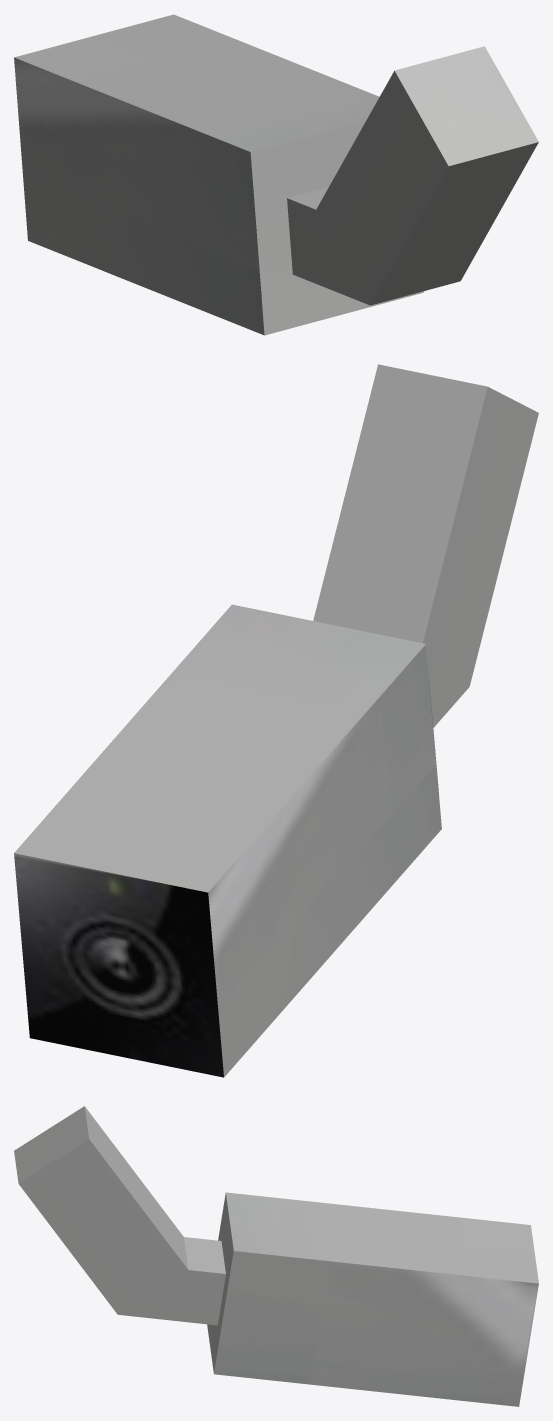
Rendered from SecurityCamera.fbx.
3 renders of one model, top to bottom at view 1: azimuth 30°, elevation 25°; view 2: azimuth 150°, elevation 25°; view 3: azimuth 270°, elevation 25°, orthographic. The views are drawn at different scales.
Visible parts, largest first — view 1: Cube.168; view 2: Cube.168; view 3: Cube.168.
Boxes of the visible parts, left/top/right/bottom form: Cube.168: left=14, top=14, right=538, bottom=335; Cube.168: left=14, top=364, right=538, bottom=1077; Cube.168: left=14, top=1106, right=538, bottom=1406.
Bounding box in the file's own units: 1.56 × 2.97 × 5.3.
